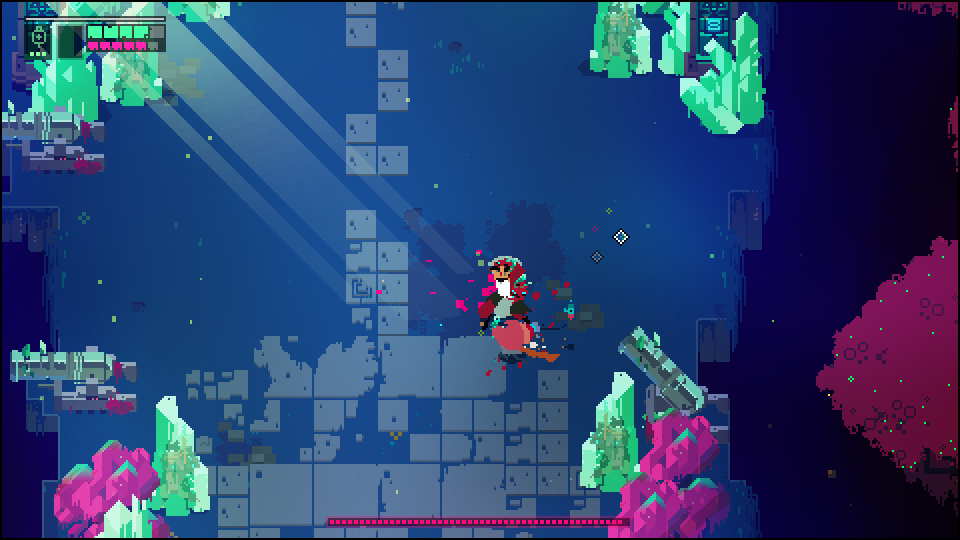hanged_man: (476, 252, 531, 346)
player: (496, 318, 545, 362)
